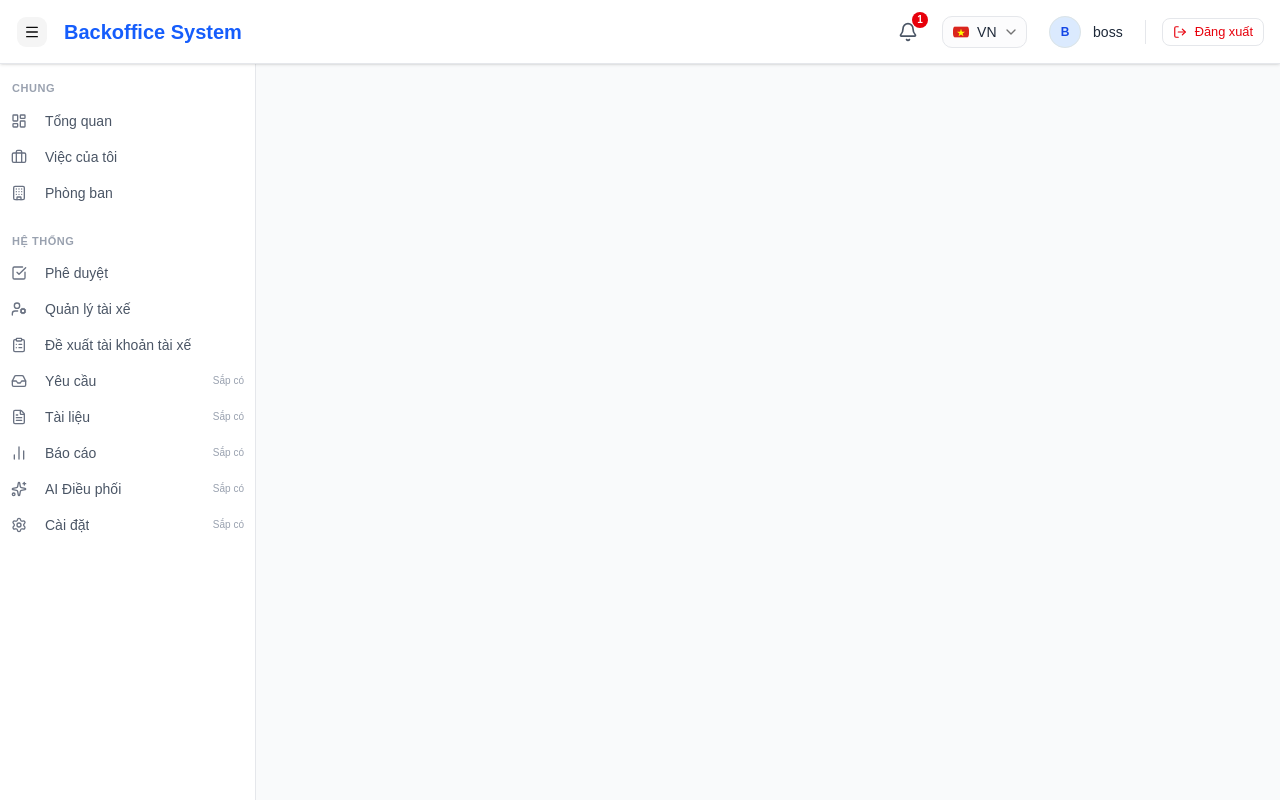
Test: MainLayout › the completion bell › ★ lists every submission when opened, read ones included
Expected: the text "1" is shown, [912,12,928,28]
Step 1. Click the button named "thông báo" → [908, 32], box [890,14,926,50]
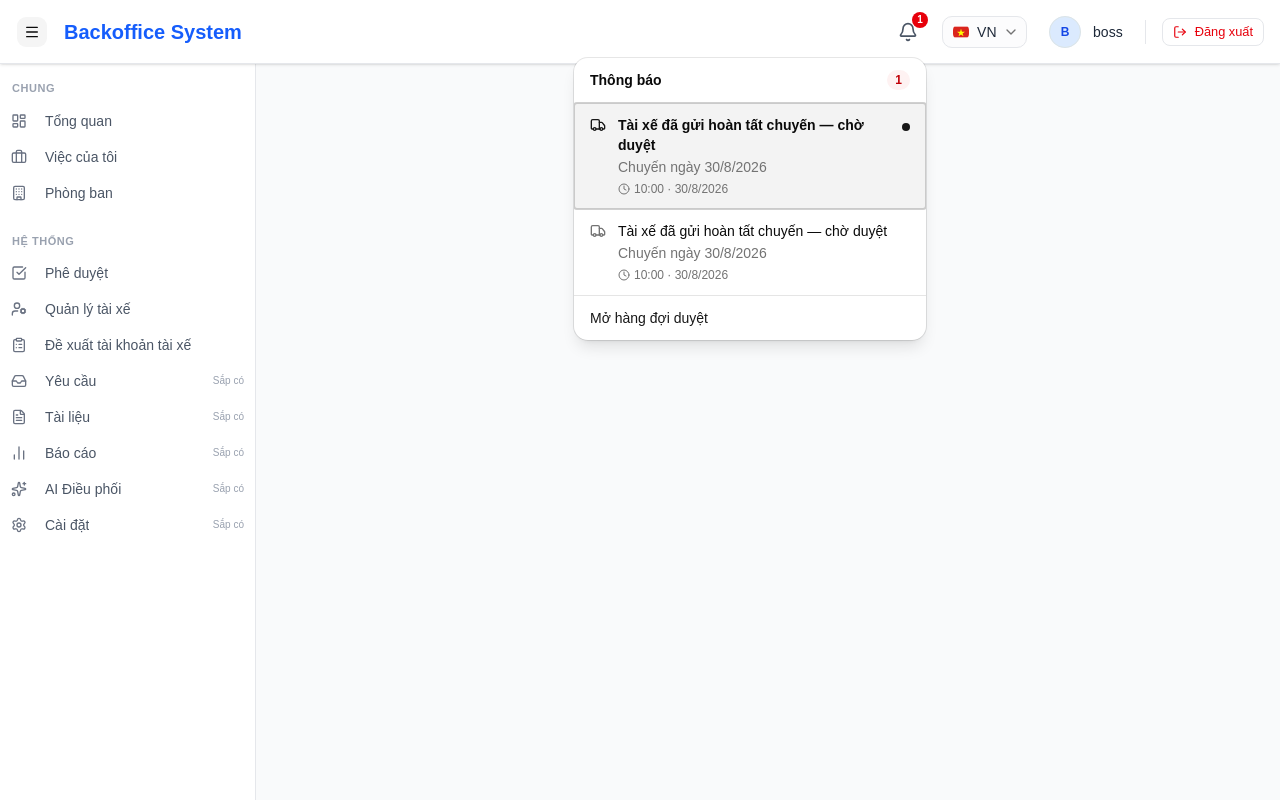
Expected: the text "Tài xế đã gửi hoàn tất chuyến — chờ duyệt" is shown 2 times, [618,115,890,155]; [618,221,910,241]
